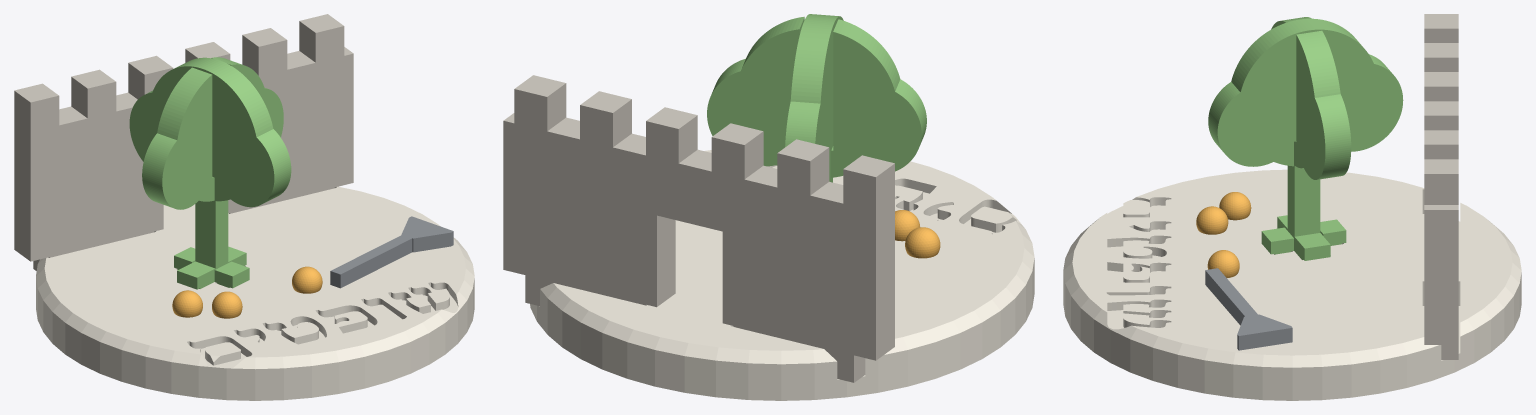
Rendered from shoftim.glb.
3 renders of one model, left to right at view 1: azimuth 30°, elevation 25°; view 2: azimuth 150°, elevation 25°; view 3: azimuth 270°, elevation 25°, orthographic. The views are drawn at different scales.
Parts seen in each view (by area): view 1: stage, city-wall, tree-b, tree-a, axe, fruit-1, fruit-3, fruit-2; view 2: city-wall, stage, tree-a, tree-b, fruit-1, fruit-2; view 3: stage, tree-b, city-wall, tree-a, axe, fruit-2, fruit-1, fruit-3.
Boxes of the visible parts, bbox=[...] form: stage: bbox=[36, 186, 474, 400]; city-wall: bbox=[14, 14, 353, 270]; tree-b: bbox=[129, 57, 291, 288]; tree-a: bbox=[142, 57, 283, 289]; axe: bbox=[330, 216, 453, 288]; fruit-1: bbox=[172, 290, 202, 317]; fruit-3: bbox=[292, 266, 322, 293]; fruit-2: bbox=[212, 291, 242, 318]; city-wall: bbox=[503, 75, 894, 382]; stage: bbox=[530, 150, 1034, 400]; tree-a: bbox=[707, 16, 926, 182]; tree-b: bbox=[785, 14, 843, 179]; fruit-1: bbox=[905, 227, 940, 258]; fruit-2: bbox=[895, 210, 919, 241]; stage: bbox=[1063, 169, 1521, 400]; tree-b: bbox=[1208, 18, 1403, 254]; city-wall: bbox=[1424, 14, 1458, 359]; tree-a: bbox=[1271, 17, 1351, 260]; axe: bbox=[1205, 268, 1292, 350]; fruit-2: bbox=[1196, 206, 1228, 234]; fruit-1: bbox=[1219, 192, 1251, 220]; fruit-3: bbox=[1207, 250, 1239, 277].
Size of the model in its own units: 40 by 25 by 40.
